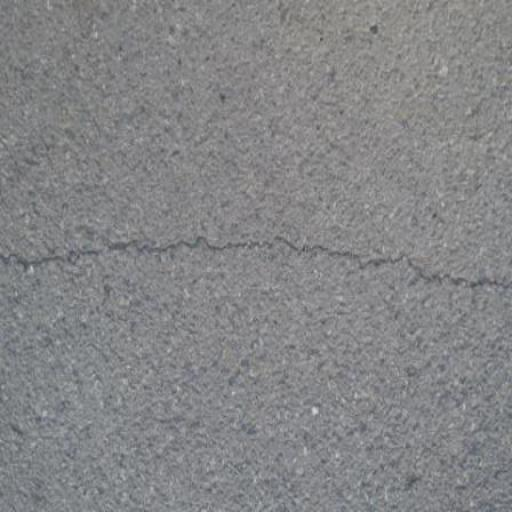spalling: (5, 215, 500, 311)
